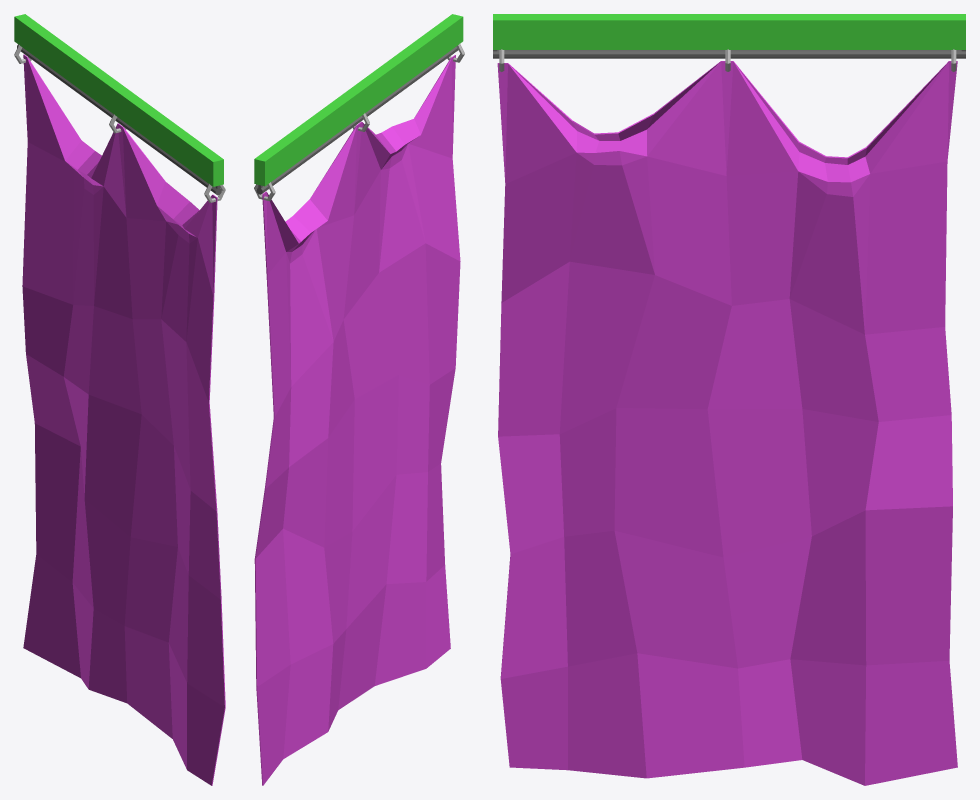
File: Curtain_01_C.fbx
3 views of the same model, side by side, from view 1: azimuth 30°, elevation 25°; view 2: azimuth 150°, elevation 25°; view 3: azimuth 270°, elevation 25° (orthographic). The views are drawn at different scales.
Visible parts, largest first — view 1: Curtain_01_C; view 2: Curtain_01_C; view 3: Curtain_01_C.
Part boxes in pixels (<box>): Curtain_01_C: <box>14,14,225,785</box>; Curtain_01_C: <box>254,14,464,785</box>; Curtain_01_C: <box>493,14,965,785</box>.
Size of the model in its own units: 29.27 by 485 by 274.
